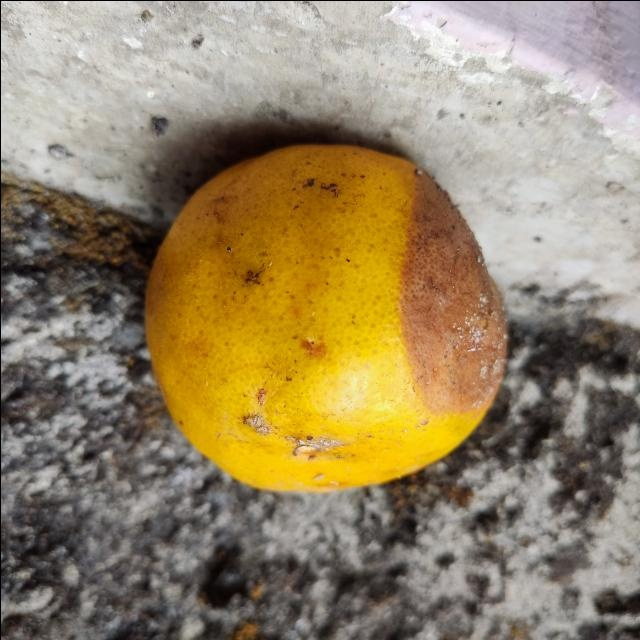agrume: (145, 144, 507, 494)
